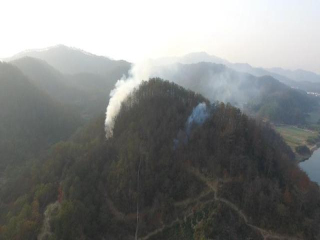smoke: (103, 61, 153, 143), (183, 96, 218, 137)
